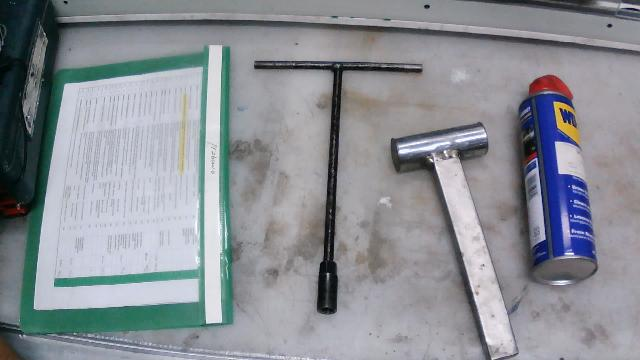kunci_t: (237, 40, 429, 331)
